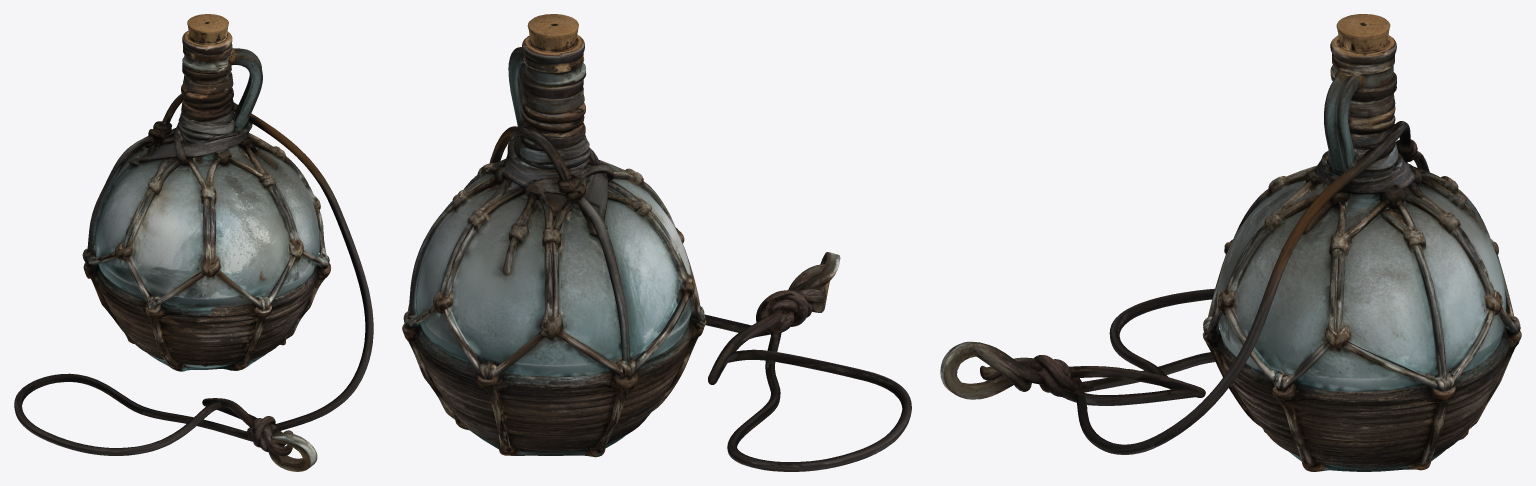
File: pixellabs-vintage-bottle-4972.high.glb
3 renders of one model, left to right at view 1: azimuth 30°, elevation 25°; view 2: azimuth 150°, elevation 25°; view 3: azimuth 270°, elevation 25°, orthographic. The views are drawn at different scales.
Parts seen in each view (by area): view 1: node_0; view 2: node_0; view 3: node_0.
Boxes of the visible parts, x1=… form: node_0: x1=14, y1=14, x2=373, y2=471; node_0: x1=402, y1=14, x2=911, y2=471; node_0: x1=940, y1=14, x2=1521, y2=471.
Bounding box in the file's own units: 0.8177 × 0.768 × 0.9774.
Materials: 1 (1 with a texture image).
